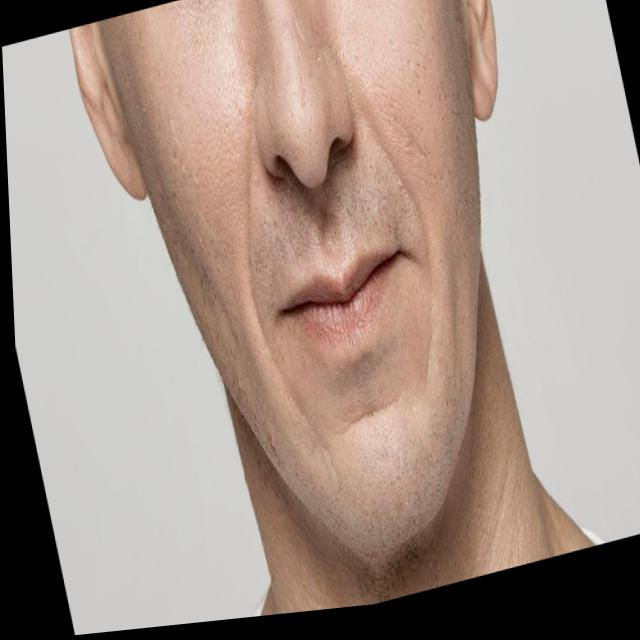Wrinkles: (237, 125, 330, 488), (361, 128, 433, 407)
